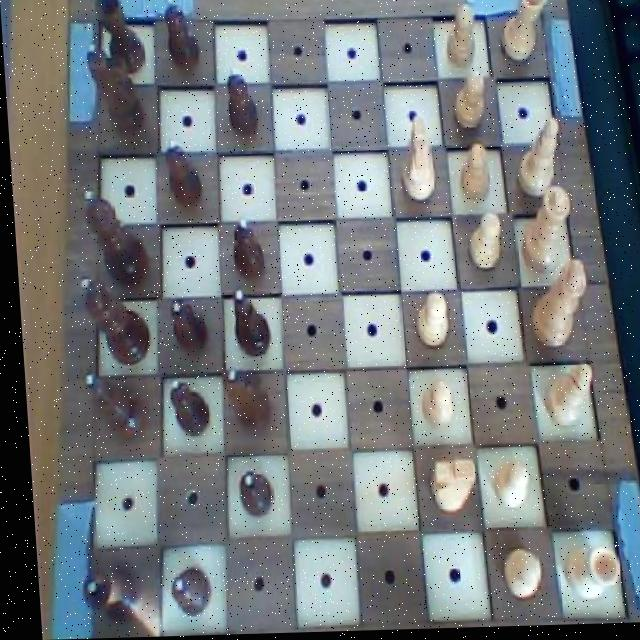bishop: (77, 371, 148, 444), (222, 288, 268, 360)
black-bishop: (70, 272, 149, 366)
black-king: (83, 41, 149, 141), (213, 366, 272, 442)
black-knight: (158, 0, 205, 76), (158, 137, 204, 213), (220, 62, 263, 141), (160, 376, 208, 438), (224, 217, 266, 287), (164, 297, 208, 360), (157, 564, 207, 617), (228, 465, 272, 523)
black-pawn: (74, 183, 153, 293)
black-queen: (92, 0, 151, 79), (68, 562, 140, 625)
black-rook: (513, 113, 567, 203), (534, 359, 594, 435)
white-bishop: (522, 259, 592, 356)
white-king: (391, 112, 439, 209), (420, 454, 474, 519)
white-knight: (439, 1, 482, 77), (478, 454, 529, 516), (405, 290, 453, 353), (461, 212, 504, 277), (453, 143, 492, 211), (410, 377, 455, 435), (492, 550, 538, 605), (449, 67, 486, 133)
white-pawn: (514, 185, 577, 278)
white-queen: (494, 0, 554, 70), (552, 545, 619, 605)
